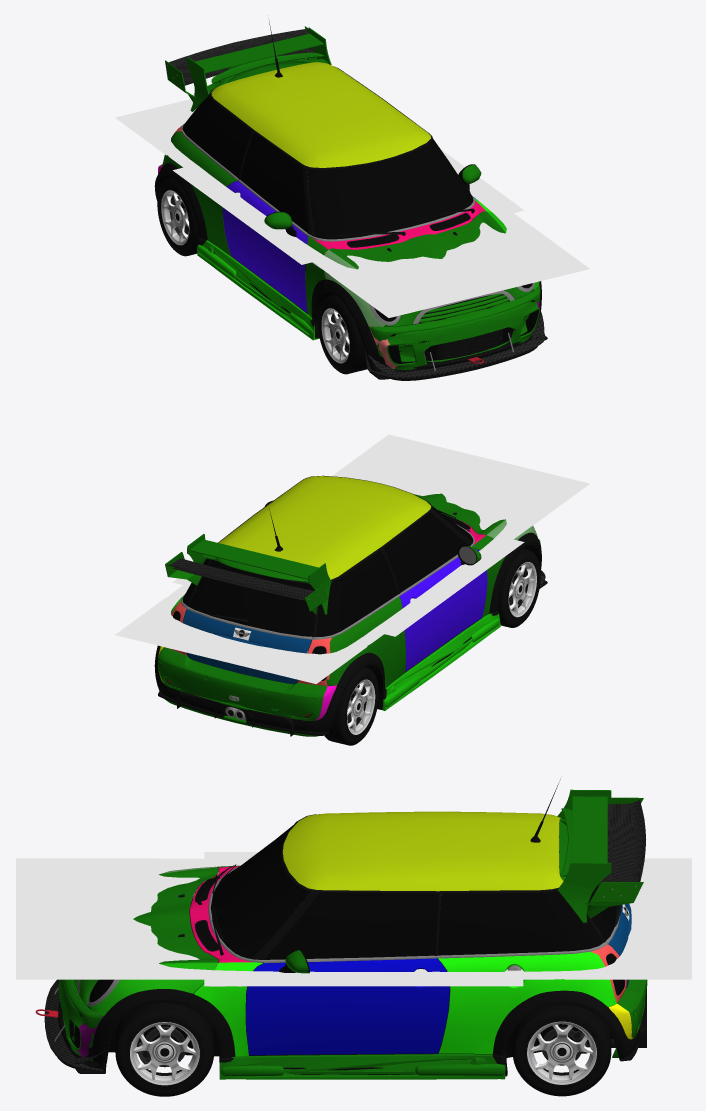
The model's file is cooper_s.fbx.
The picture shows the model from 3 angles, top to bottom: view 1: azimuth 30°, elevation 25°; view 2: azimuth 150°, elevation 25°; view 3: azimuth 270°, elevation 25°; orthographic projection. The views are drawn at different scales.
Visible parts, largest first — view 1: min_coopers_03_body_body_, shadow, neon (×4), min_coopers_03_glassF_window_, min_coopers_03_hooda_body_, min_coopers_03_bumperFf_body_, min_coopers_03_wingf_body_, min_coopers_03_glassRF_window_, min_coopers_03_wheel_tire_ (×2), min_coopers_03_body_matte_colors_, min_coopers_03_glassF_black_glass_, min_coopers_03_glassRR_window_ (+17 smaller); view 2: min_coopers_03_body_body_, neon (×3), shadow, min_coopers_03_bumperRb_body_, min_coopers_03_glassR_window_, min_coopers_03_glassRF_window_, min_coopers_03_wheel_tire_ (×2), min_coopers_03_trunk_body_, min_coopers_03_wingf_body_, min_coopers_03_body_matte_colors_, min_coopers_03_glassRR_window_, min_coopers_03_glassR_black_glass_ (+17 smaller); view 3: min_coopers_03_body_body_, neon (×4), shadow, min_coopers_03_wheel_tire_ (×2), min_coopers_03_glassLF_window_, min_coopers_03_hooda_body_, min_coopers_03_body_matte_colors_, min_coopers_03_glassLR_window_, min_coopers_03_glassF_window_, min_coopers_03_wingf_body_, min_coopers_03_wheel_rim_ (×2), min_coopers_03_skirtLb_body_ (+20 smaller).
Boxes of the visible parts, x1,y1,x2,y2 form: min_coopers_03_body_body_: (161,62,493,317); shadow: (160,114,546,295); neon (×4): (115,99,589,317); min_coopers_03_glassF_window_: (312,145,467,232); min_coopers_03_hooda_body_: (324,211,539,326); min_coopers_03_bumperFf_body_: (368,284,539,369); min_coopers_03_wingf_body_: (187,27,331,111); min_coopers_03_glassRF_window_: (241,137,305,229); min_coopers_03_wheel_tire_ (×2): (157,177,367,374); min_coopers_03_body_matte_colors_: (159,66,472,323); min_coopers_03_glassF_black_glass_: (307,139,473,239); min_coopers_03_glassRR_window_: (190,104,244,168); min_coopers_03_body_body_: (170,476,505,687); neon (×3): (115,434,589,683); shadow: (159,457,546,657); min_coopers_03_bumperRb_body_: (158,648,336,736); min_coopers_03_glassR_window_: (198,564,309,627); min_coopers_03_glassRF_window_: (386,517,465,590); min_coopers_03_wheel_tire_ (×2): (324,548,540,745); min_coopers_03_trunk_body_: (182,609,311,683); min_coopers_03_wingf_body_: (187,534,331,614); min_coopers_03_body_matte_colors_: (186,475,515,692); min_coopers_03_glassRR_window_: (339,558,389,626); min_coopers_03_glassR_black_glass_: (188,559,314,636); min_coopers_03_body_body_: (189,811,626,1056); neon (×4): (16,852,691,986); shadow: (51,858,654,979); min_coopers_03_wheel_tire_ (×2): (115,1003,611,1096); min_coopers_03_glassLF_window_: (271,897,434,957); min_coopers_03_hooda_body_: (74,866,218,1016); min_coopers_03_body_matte_colors_: (184,814,608,1058); min_coopers_03_glassLR_window_: (455,898,568,950); min_coopers_03_glassF_window_: (219,825,301,948); min_coopers_03_wingf_body_: (557,789,611,922); min_coopers_03_wheel_rim_ (×2): (130,1021,596,1085); min_coopers_03_skirtLb_body_: (219,1054,505,1079).
Size of the model in its own units: 3.6 by 1.85 by 4.25.
